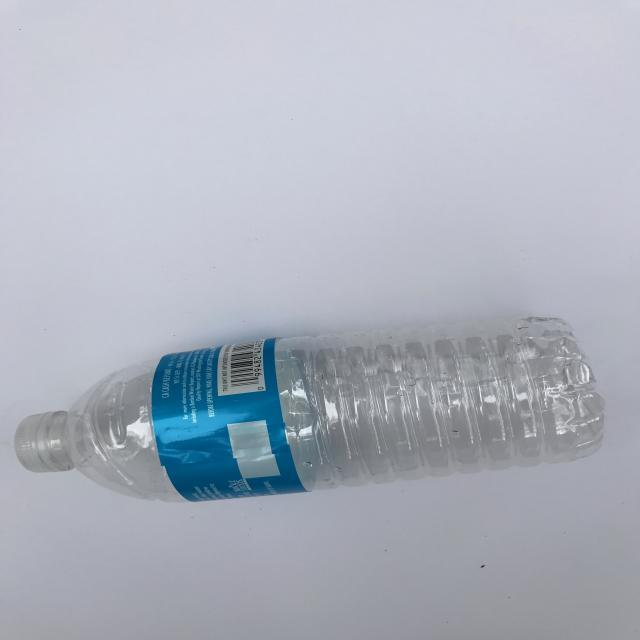plastic: (13, 320, 620, 503)
